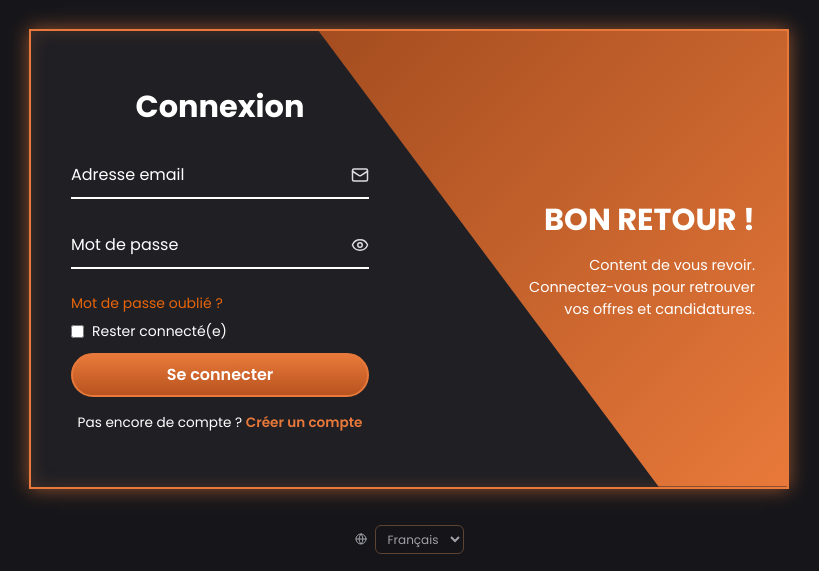
Authentification Supabase › envoie le lien de mot de passe oublié vers la page de réinitialisation
This screenshot has width=819, height=571.
Click the button "Mot de passe oublié ?".
click(147, 303)  # box [71,293,223,313]
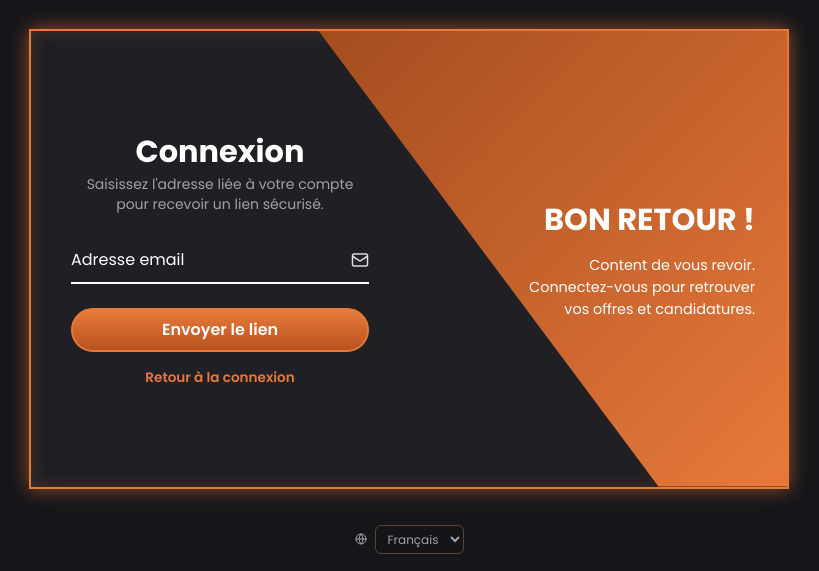
Type "entreprise@example.com" into the field named "recoveryEmail".
click(220, 260); type("entreprise@example.com")  # box [71,238,369,282]
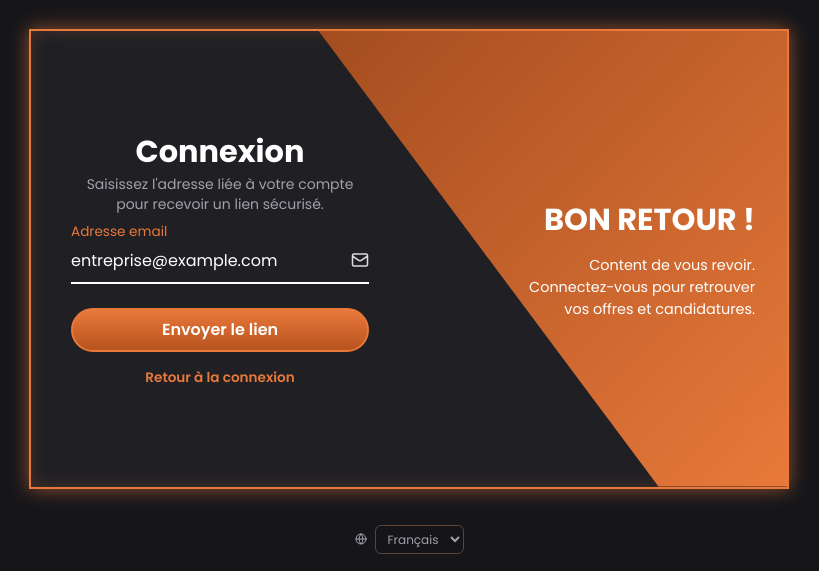
Submit the form, box [71,174,369,388]
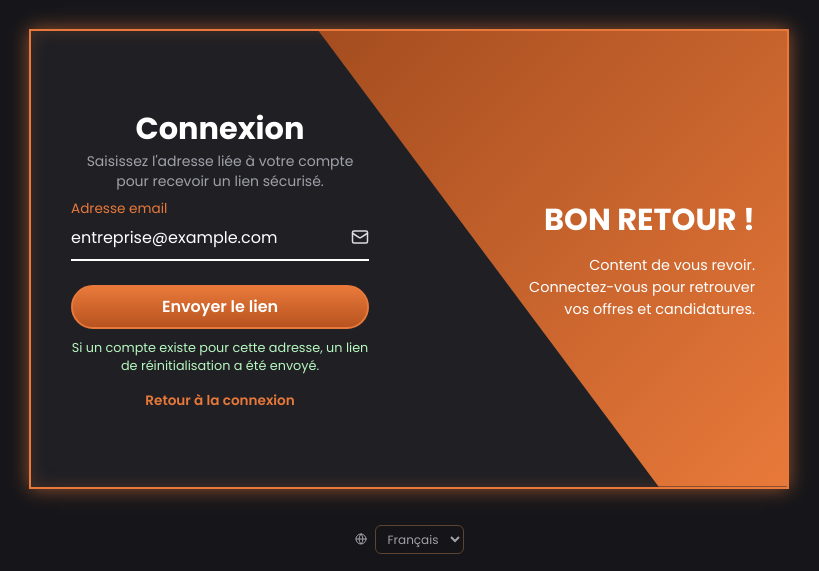
Check: the message shows "un lien de réinitialisation a été envoyé", box [72,339,368,374]
